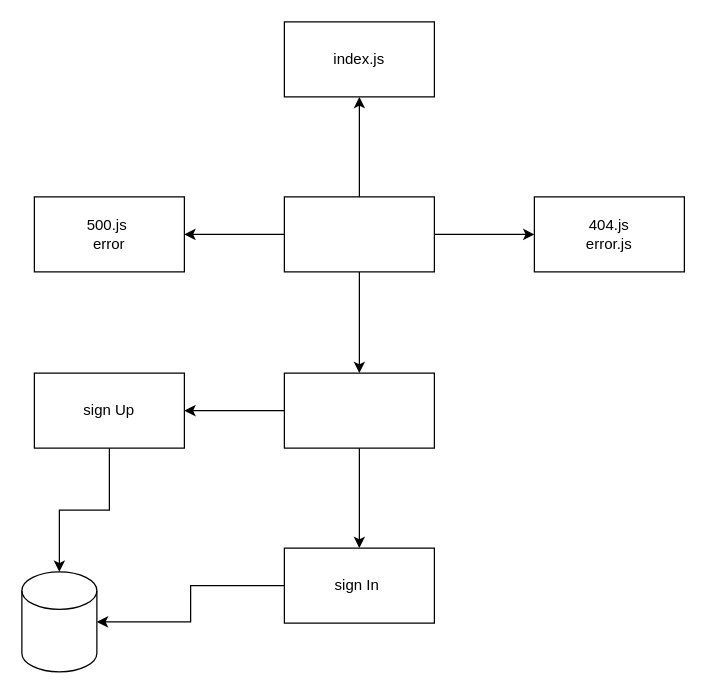
This 706x694 diagram has some shape labels left out. The centre of each missing label's shape, as x and y in pixels:
database: the point at 59,621
router: the point at 358,410
server: the point at 358,234
